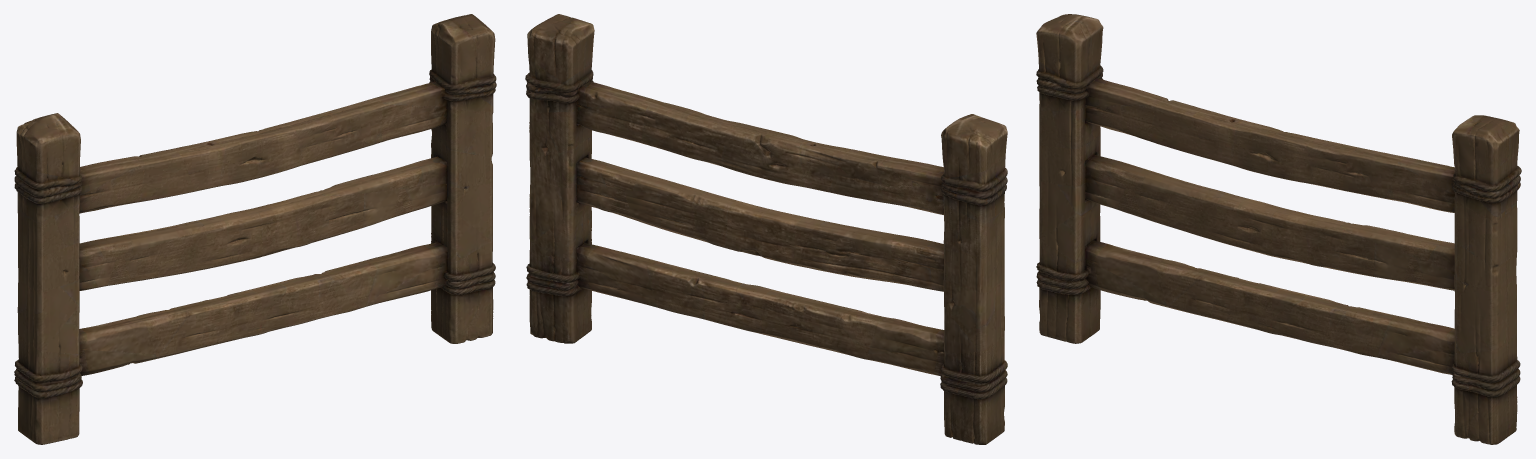
File: wooden-fence-a.glb
3 renders of one model, left to right at view 1: azimuth 30°, elevation 25°; view 2: azimuth 150°, elevation 25°; view 3: azimuth 330°, elevation 25°, orthographic.
Parts seen in each view (by area): view 1: mesh_node; view 2: mesh_node; view 3: mesh_node.
Part boxes in pixels (<box>): mesh_node: <box>14,14,496,444</box>; mesh_node: <box>525,14,1007,444</box>; mesh_node: <box>1036,14,1521,444</box>.
Bounding box in the file's own units: 1.9 × 1.23 × 0.2227.
Materials: 1 (1 with a texture image).
